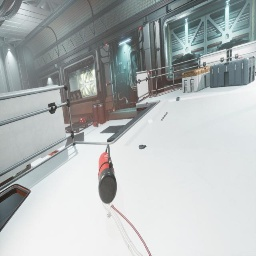FireExtinguisher ]: (98, 144, 117, 204), (93, 121, 98, 127)
FirstAidBox ,: (79, 116, 86, 124)
